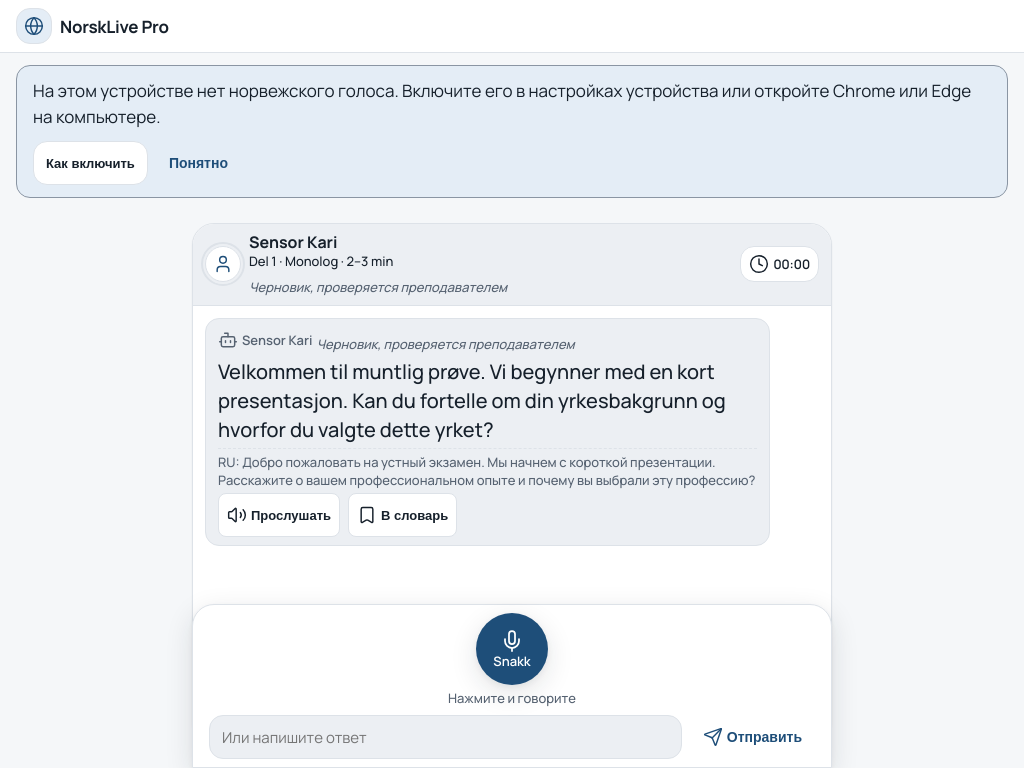
Scenario: StudioPage (/ and /studio) M1a-3 Full UI, Chat & Voice › 10 (M1c-1, #46). MicButton label changes with recording state ("Snakk" -> "Готово" -> "Snakk")
This screenshot has width=1024, height=768.
Check: the message with id "micStatusText" reads "Нажмите и говорите", box [448,689,576,707]
Click the button with id "micToggleBtn": (512,649) [476,613,548,685]
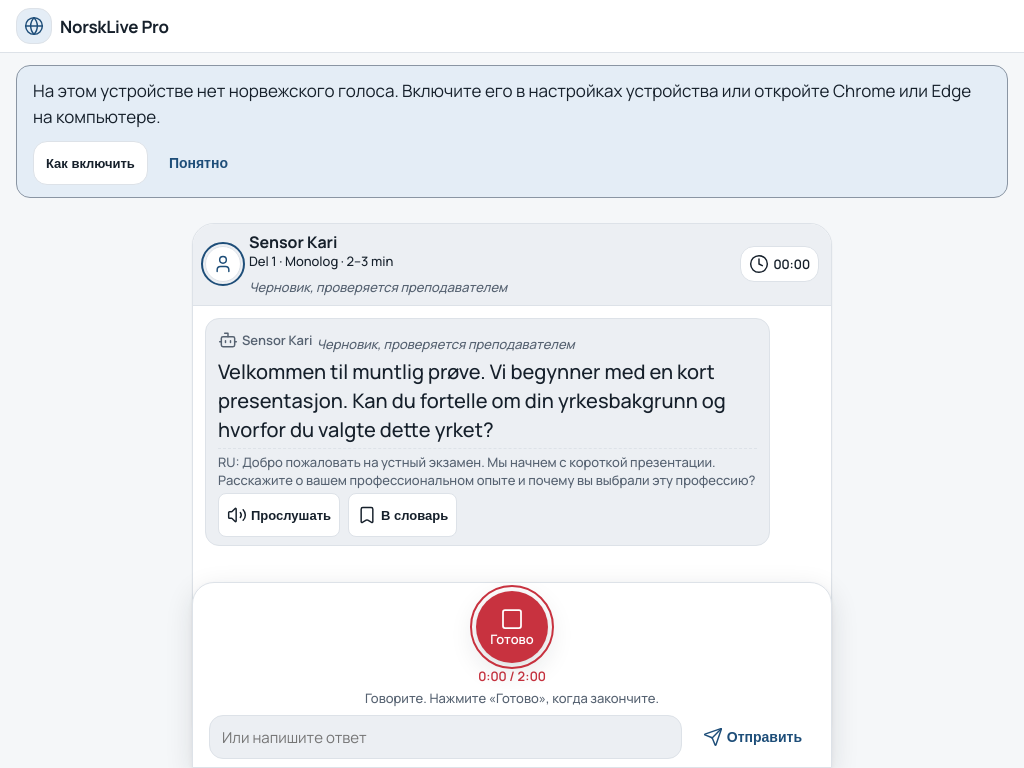
Check: the button with id "micToggleBtn" reads "Готово"
Check: the message with id "micStatusText" reads "Говорите. Нажмите «Готово», когда закончите.", box [365,689,659,707]
Check: the text with id "micRecordingTimer" reads "0:00 / 2:00", box [478,667,546,685]
Click the button with id "micToggleBtn": (512,627) [476,591,548,663]
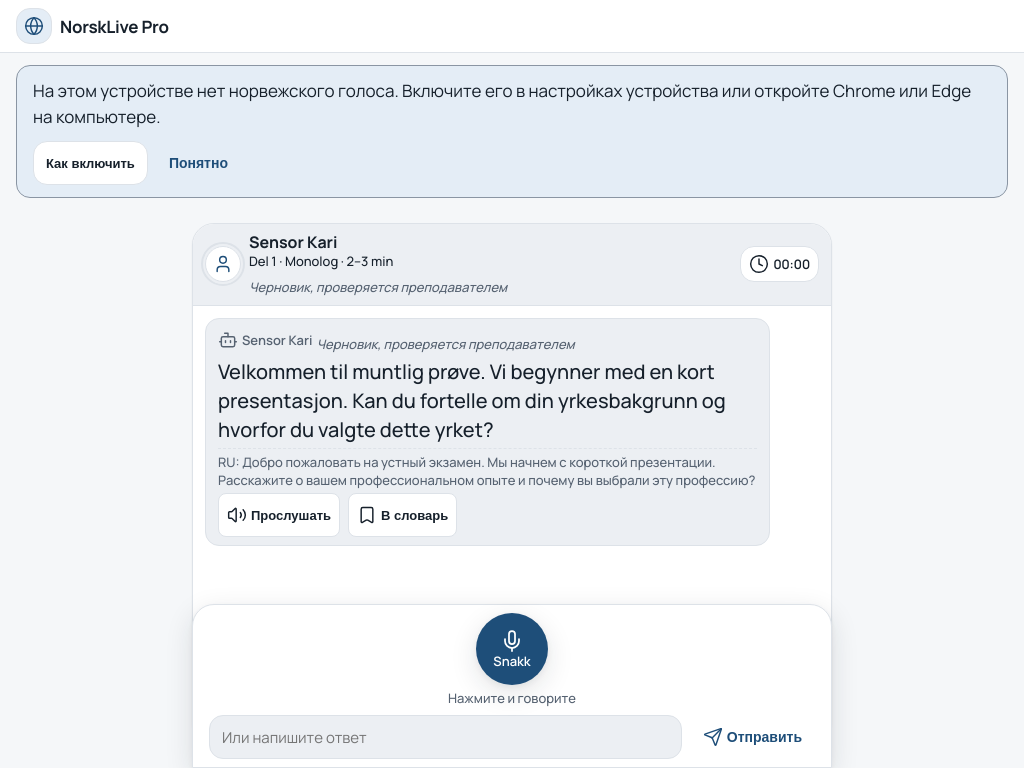
Check: the button with id "micToggleBtn" reads "Snakk", box [476,613,548,685]
Check: the message with id "micStatusText" reads "Нажмите и говорите", box [448,689,576,707]
